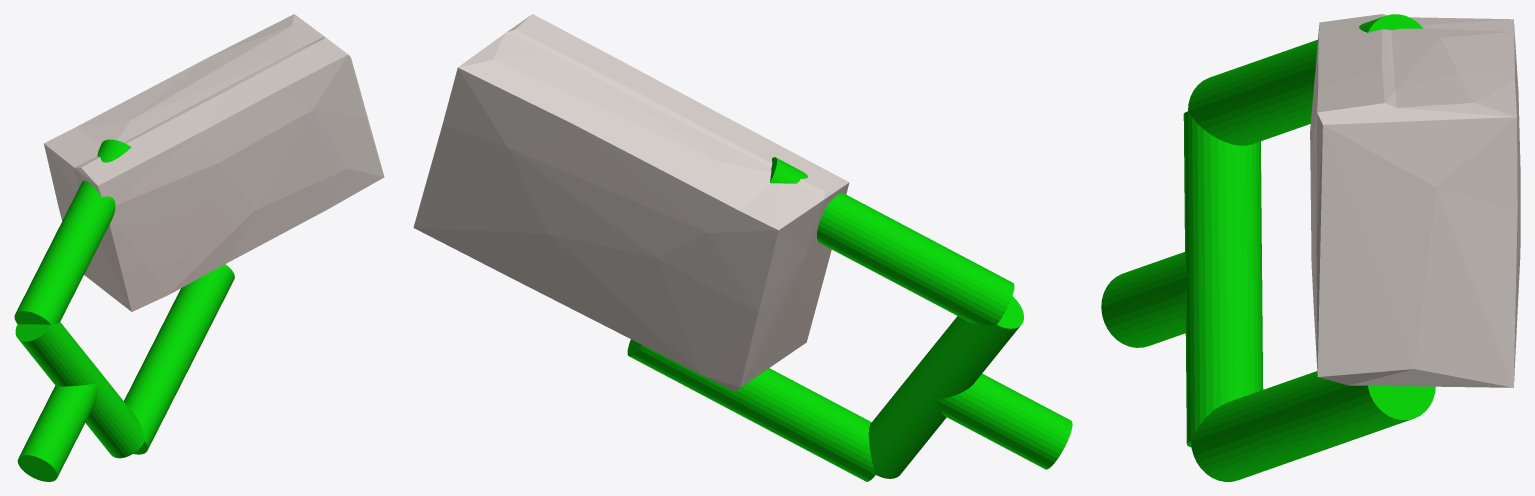
File: round_000_trial_003.obj
3 renders of one model, left to right at view 1: azimuth 30°, elevation 25°; view 2: azimuth 150°, elevation 25°; view 3: azimuth 270°, elevation 25°, orthographic. The views are drawn at different scales.
Visible parts, largest first — view 1: geometry_0, geometry_1; view 2: geometry_0, geometry_1; view 3: geometry_0, geometry_1.
Boxes of the visible parts, x1,y1,x2,y2 form: geometry_0: [44, 14, 384, 311]; geometry_1: [14, 139, 234, 481]; geometry_0: [413, 14, 849, 391]; geometry_1: [627, 157, 1072, 481]; geometry_0: [1310, 14, 1520, 387]; geometry_1: [1101, 14, 1435, 481].
Bounding box in the file's own units: 0.1095 × 0.0829 × 0.0544.
